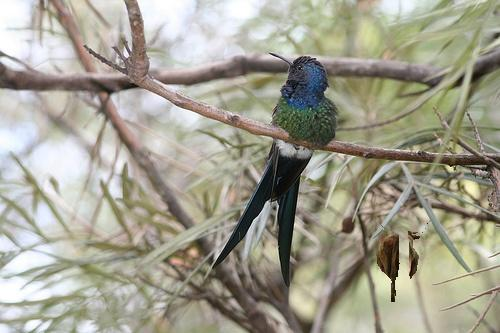tampered: (377, 221, 429, 302)
